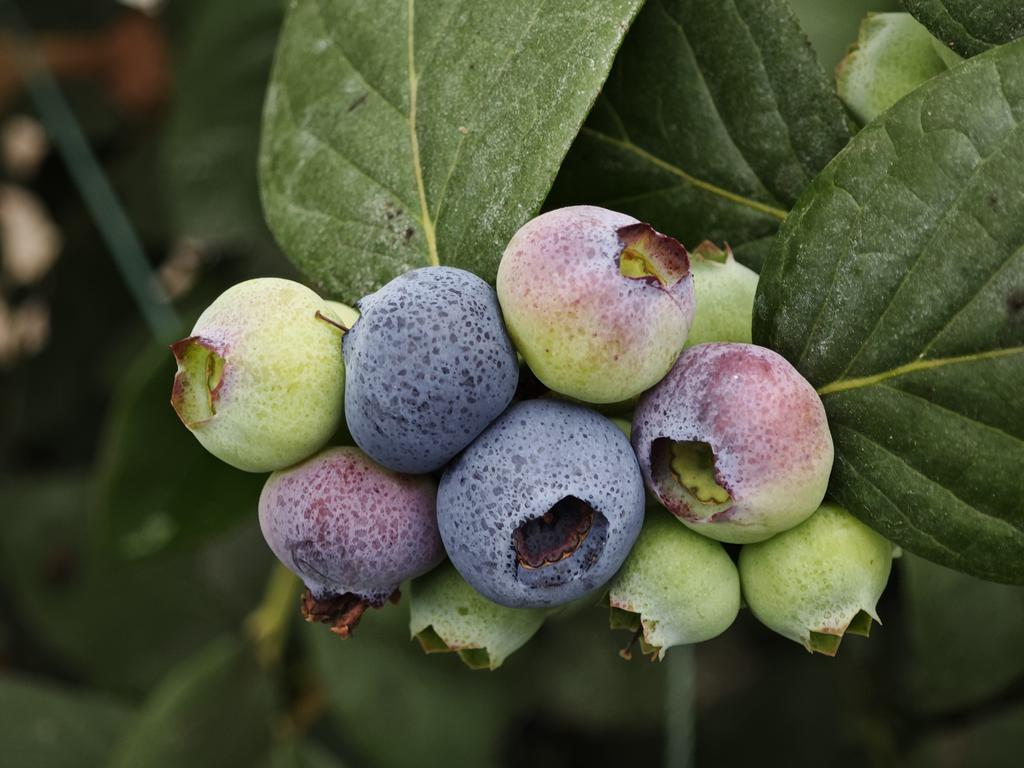RipeBlueBerry: (439, 395, 650, 612), (344, 263, 517, 475)
Semi-RipeBlueBerry: (635, 337, 837, 545), (502, 202, 698, 405), (257, 447, 445, 621)
UnripeBlueBerry: (170, 273, 346, 476)
